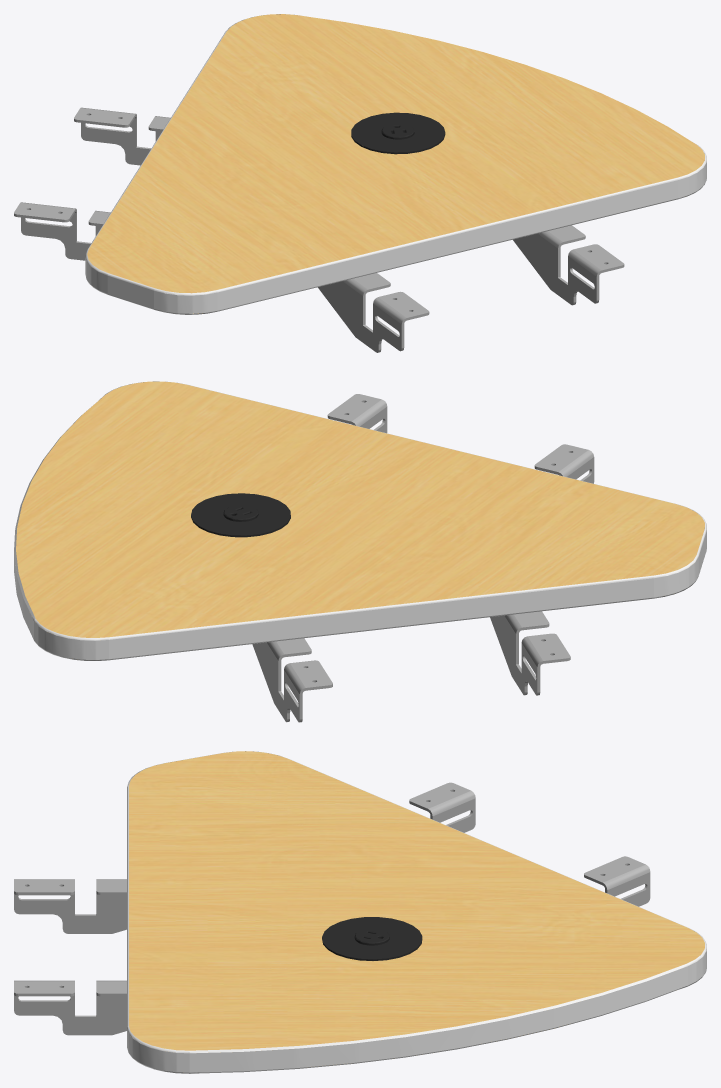
File: HSU020000_135_GROMMET.glb
3 views of the same model, one above another, from view 1: azimuth 30°, elevation 25°; view 2: azimuth 150°, elevation 25°; view 3: azimuth 270°, elevation 25° (orthographic). The views are drawn at different scales.
Parts seen in each view (by area): view 1: 4 (×2), 14, 16, 7, 13, 15; view 2: 4 (×2), 13, 15, 7, 16, 14; view 3: 4 (×2), 14, 16, 7, 15, 13, 8.
Boxes of the visible parts, <box> form: 4 (×2): <box>85,14,706,314</box>; 14: <box>513,225,624,305</box>; 16: <box>318,273,429,352</box>; 7: <box>351,112,445,154</box>; 13: <box>14,202,110,260</box>; 15: <box>74,107,170,165</box>; 4 (×2): <box>14,381,706,660</box>; 13: <box>490,611,570,695</box>; 15: <box>252,638,332,722</box>; 7: <box>191,493,290,537</box>; 16: <box>534,444,594,483</box>; 14: <box>327,394,387,433</box>; 4 (×2): <box>127,751,706,1073</box>; 14: <box>14,980,126,1035</box>; 16: <box>14,879,126,933</box>; 7: <box>322,917,422,960</box>; 15: <box>584,856,650,906</box>; 13: <box>409,782,475,832</box>; 8: <box>354,928,389,945</box>.
Size of the model in its own units: 0.7004 by 0.0898 by 0.6812.
Materials: 4 (1 with a texture image).
